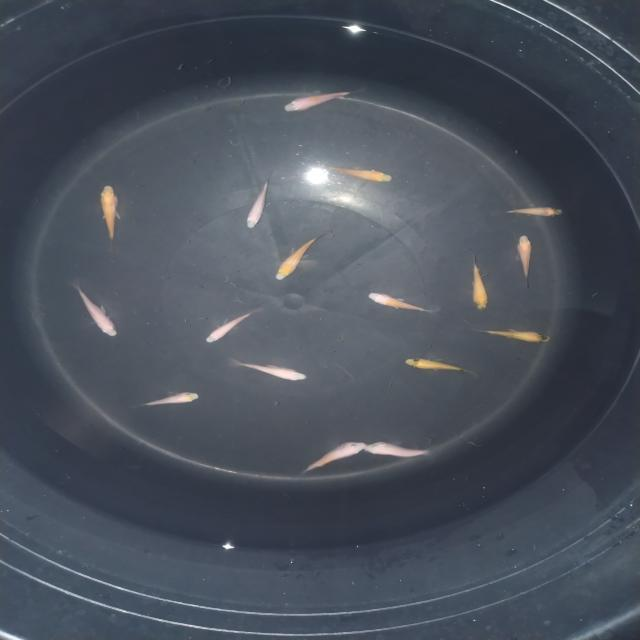nila: (270, 229, 330, 281), (276, 83, 371, 114), (72, 278, 120, 339), (296, 438, 366, 478), (362, 285, 444, 316), (202, 306, 261, 345), (318, 156, 396, 184), (94, 182, 125, 252), (241, 169, 276, 229), (401, 355, 483, 380), (227, 361, 312, 384), (463, 254, 494, 314), (476, 324, 558, 346), (126, 389, 203, 411), (362, 438, 444, 458), (512, 230, 538, 288), (491, 204, 572, 218)
